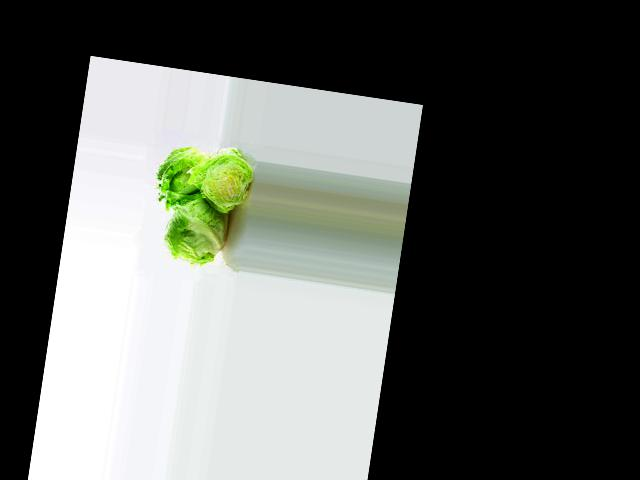lettuce: (132, 163, 236, 284)
